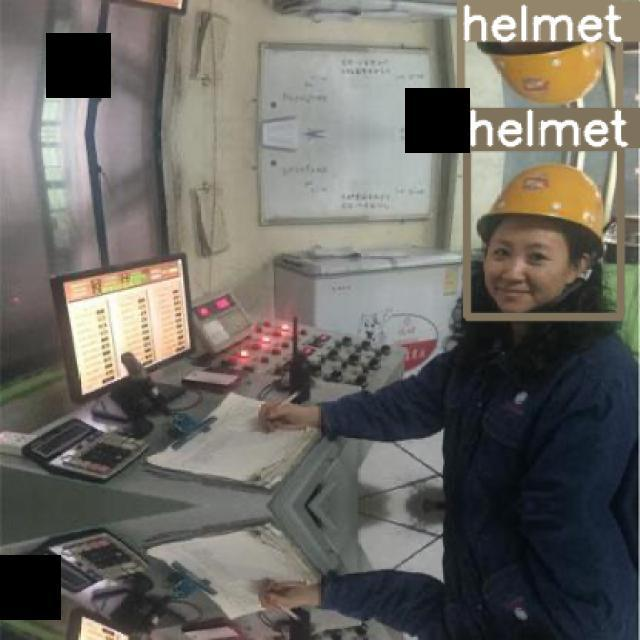yellow helmet: (472, 159, 610, 276)
